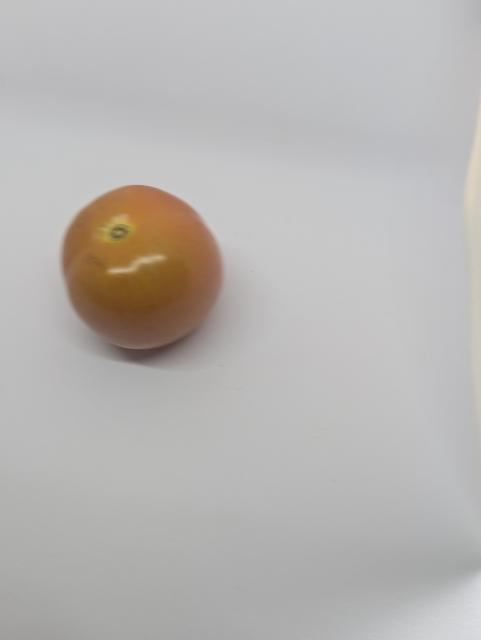turning: (53, 180, 231, 355)
